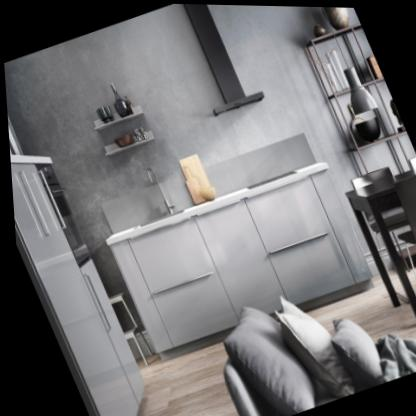Cabinet: (97, 156, 380, 368)
Chair: (368, 168, 416, 330)
Wooden floor: (129, 342, 237, 416)
